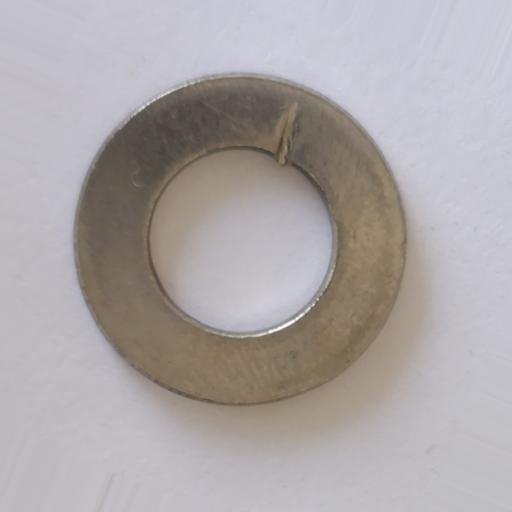scratch: (272, 101, 301, 166)
